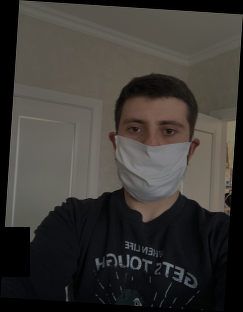with_mask: (111, 109, 190, 203)
